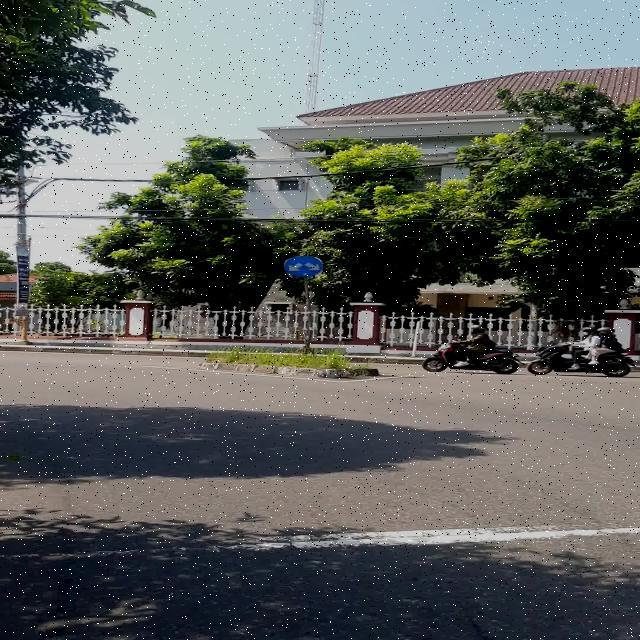Pilih Salah Satu Jalur: (285, 255, 323, 278)
